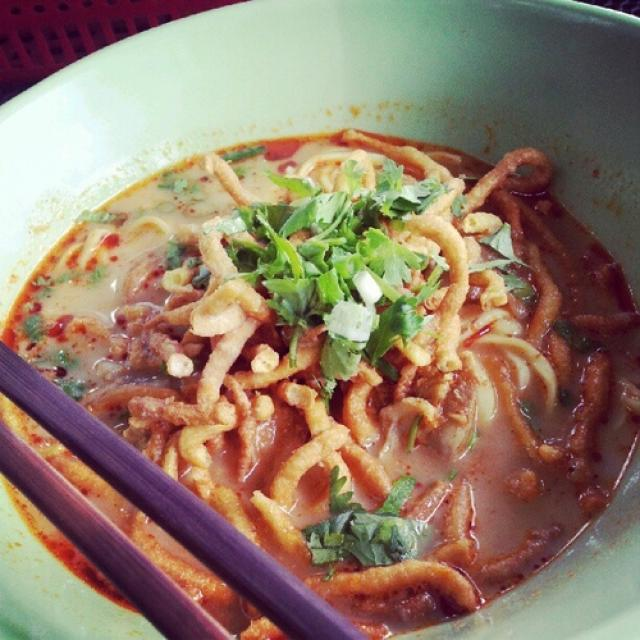面条主食: (45, 101, 605, 613)
